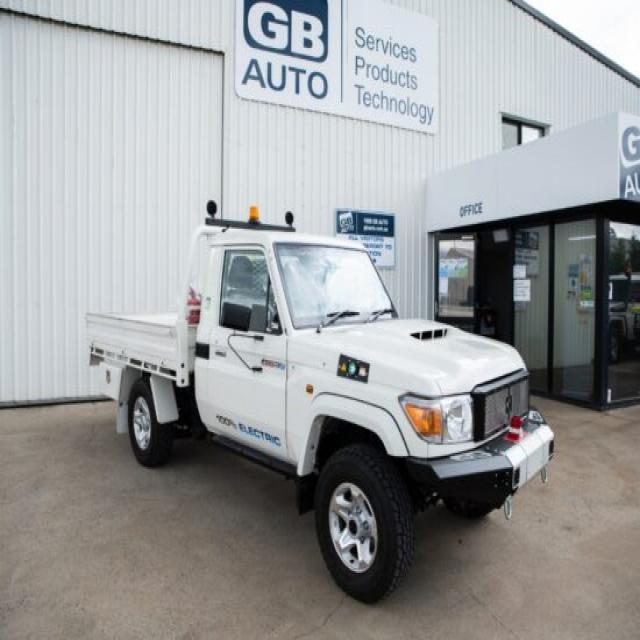light_vehicle: (62, 189, 557, 600)
